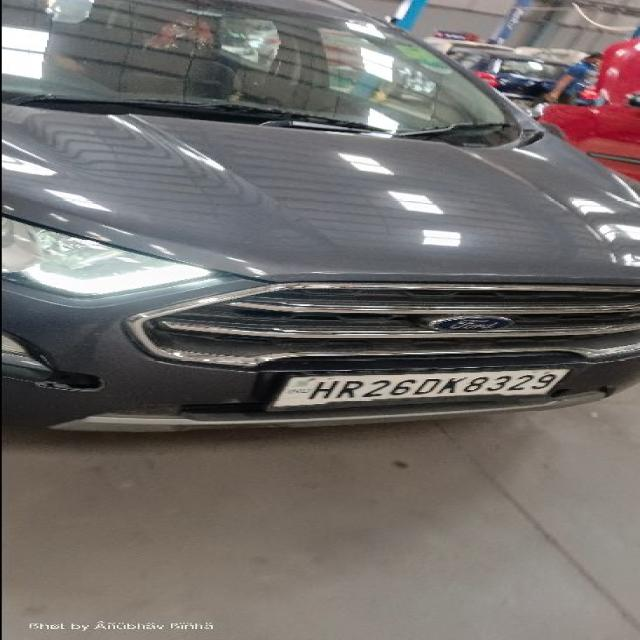license_plate: (260, 366, 572, 413)
